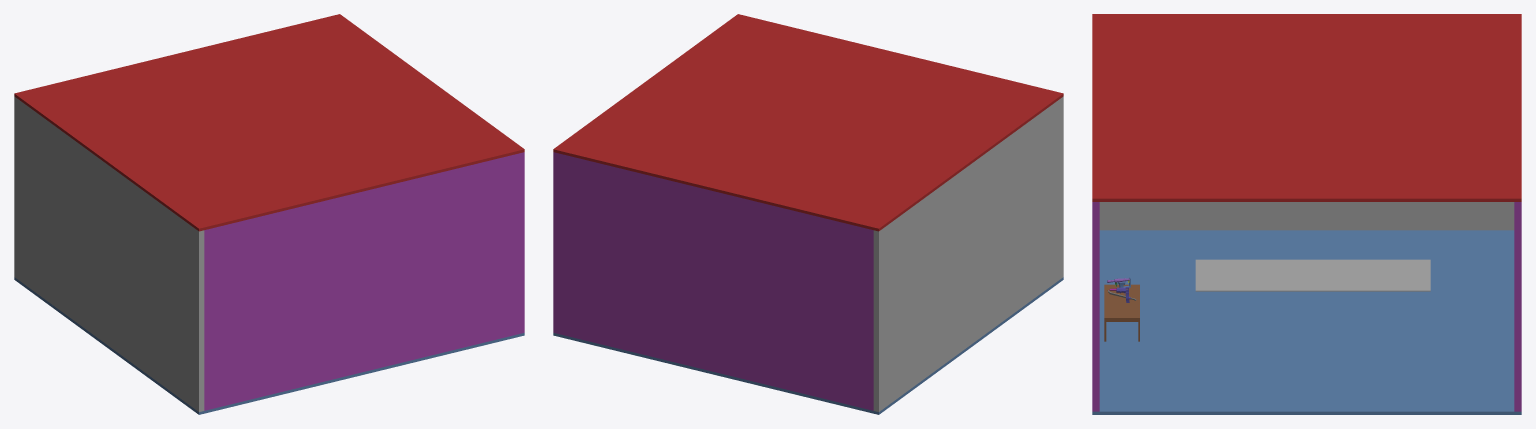
Rendered from Set cambio de llanta 1.fbx.
3 renders of one model, left to right at view 1: azimuth 30°, elevation 25°; view 2: azimuth 150°, elevation 25°; view 3: azimuth 270°, elevation 25°, orthographic. The views are drawn at different scales.
Visible parts, largest first — view 1: Techo, Paredes, Fondo, suelo; view 2: Techo, Paredes, Fondo, suelo; view 3: Techo, suelo, Fondo, Base_trailer, Paredes, Mesa.
Part boxes in pixels (x1,y1,x2,y2): Techo: (14,14,524,231); Paredes: (204,152,524,410); Fondo: (14,96,204,411); suelo: (14,277,524,414); Techo: (553,14,1063,231); Paredes: (553,152,873,410); Fondo: (873,96,1063,411); suelo: (553,277,1063,414); Techo: (1092,14,1521,201); suelo: (1092,230,1521,414); Fondo: (1099,202,1514,230); Base_trailer: (1195,259,1430,291); Paredes: (1092,202,1521,411); Mesa: (1104,284,1139,341).
Bounding box in the file's own units: 48.39 × 26.44 × 47.56.
